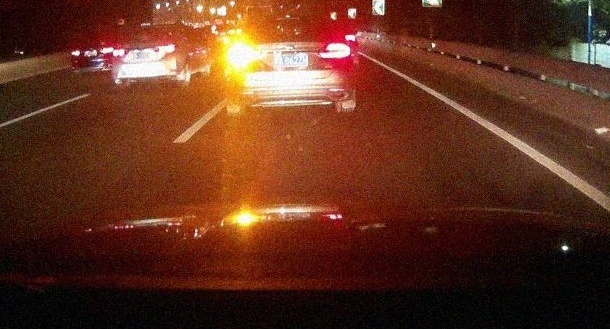L_light: (228, 45, 261, 63), (112, 49, 124, 56)
R_light: (318, 43, 352, 59), (159, 45, 176, 54)
T_light: (280, 17, 300, 22), (147, 27, 159, 32)
night-left: (226, 12, 354, 114)
night-no: (112, 23, 178, 89)
